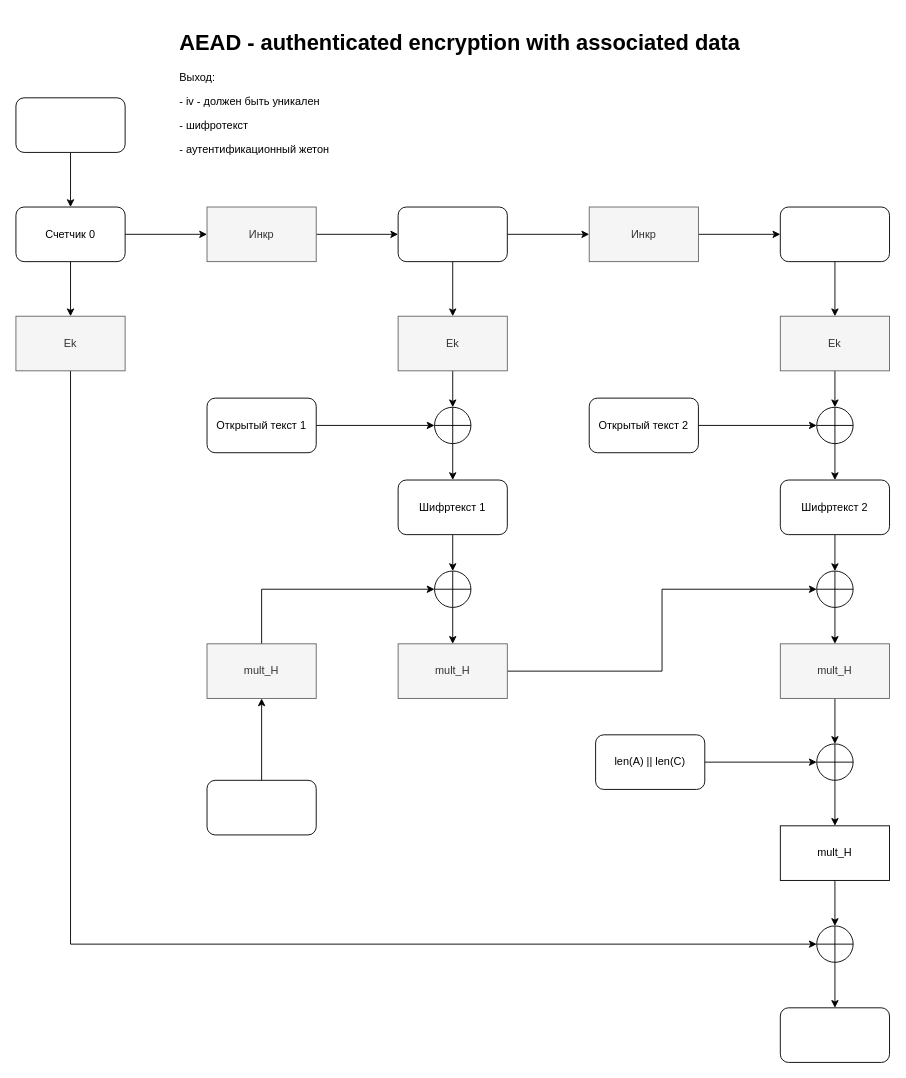
Some shapes in this 906 by 1078 pixel diagram are drawn without their labels. Here are the shapes that lost their labels. From the top down, the box of each, then its label:
(15, 97, 125, 152): iv
(397, 206, 507, 262): Счетчик 1
(779, 206, 890, 262): Счетчик 2
(206, 779, 316, 835): Данные аутентификации 1
(779, 1007, 890, 1062): Аутентификационный жетон
